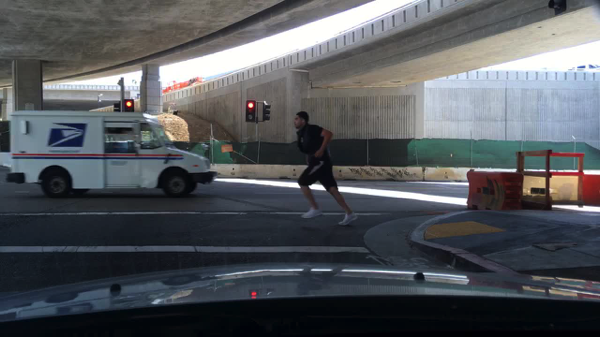car: (7, 109, 219, 200)
person: (293, 111, 359, 227)
traffic light: (244, 100, 257, 123), (549, 1, 567, 16), (262, 102, 272, 123), (125, 99, 134, 113), (113, 101, 122, 112)
